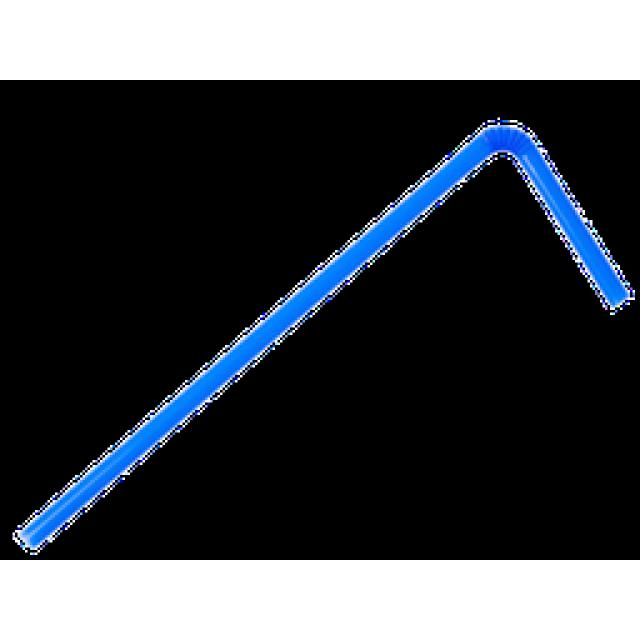plastic: (8, 112, 638, 552)
